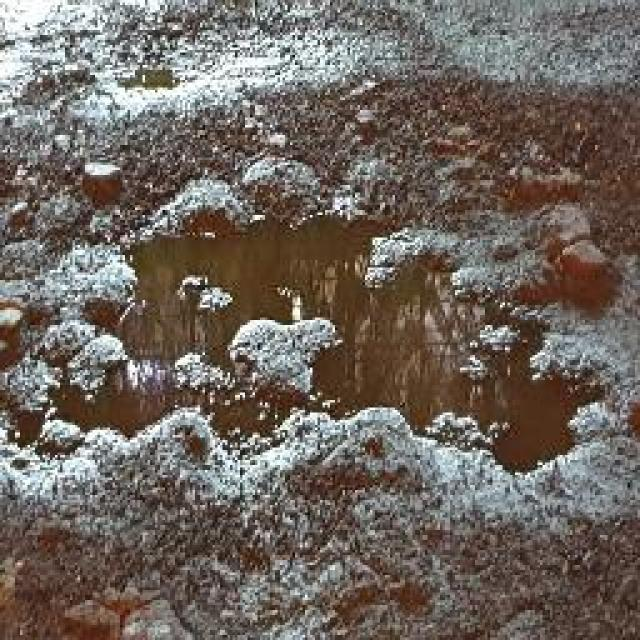stagnation: (0, 135, 619, 488)
